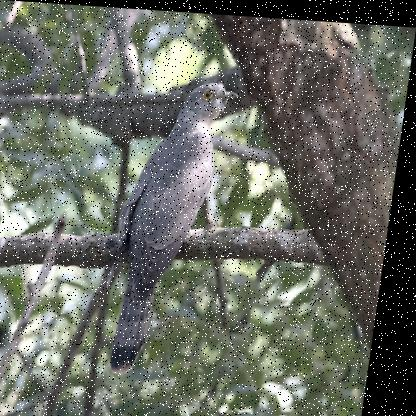Burung: (105, 73, 243, 375)
